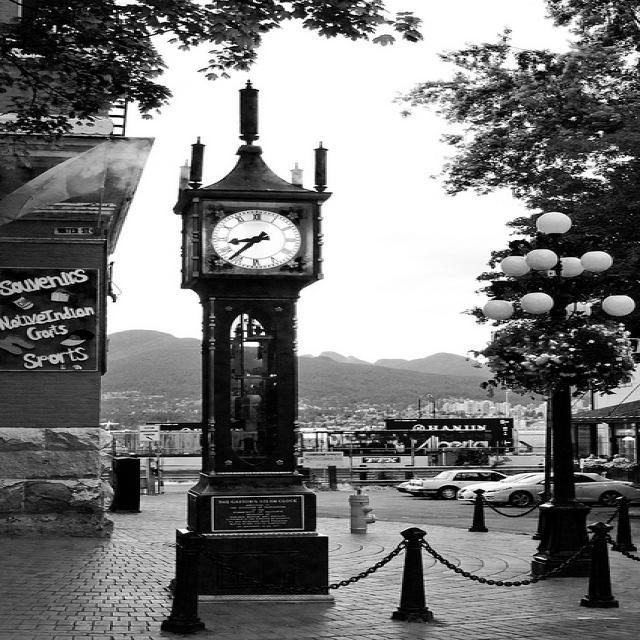fire_hydrant: (348, 488, 376, 535)
